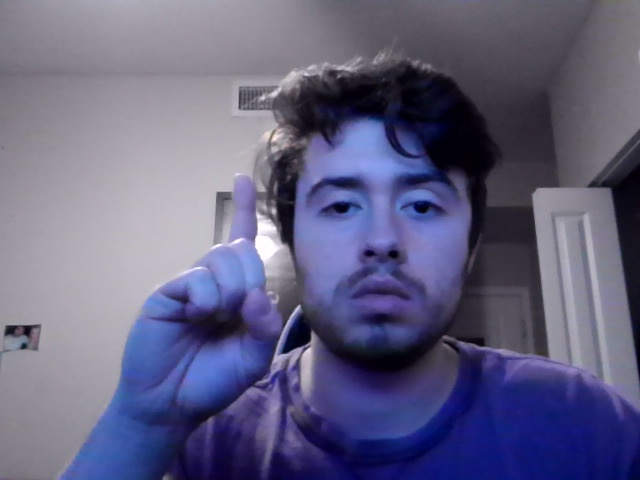d: (120, 173, 283, 436)
